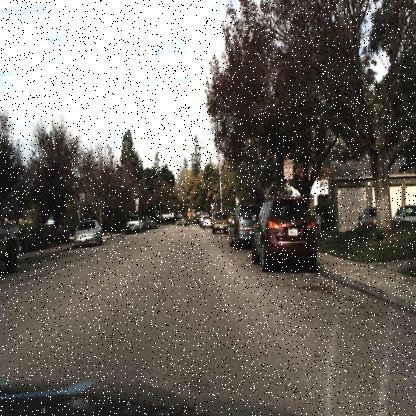car: (247, 192, 320, 280), (249, 190, 317, 274), (225, 199, 263, 254), (227, 200, 265, 252), (1, 207, 24, 276), (73, 215, 107, 247), (71, 216, 102, 250), (209, 210, 228, 237), (122, 212, 140, 235), (173, 213, 191, 231), (200, 212, 215, 232)
